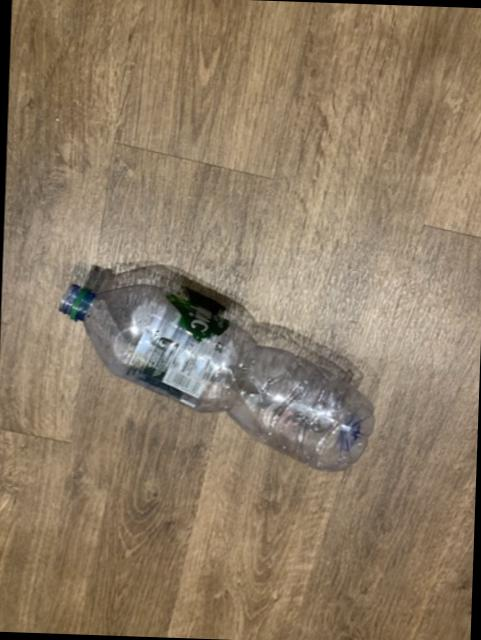plastic: (57, 269, 370, 472)
